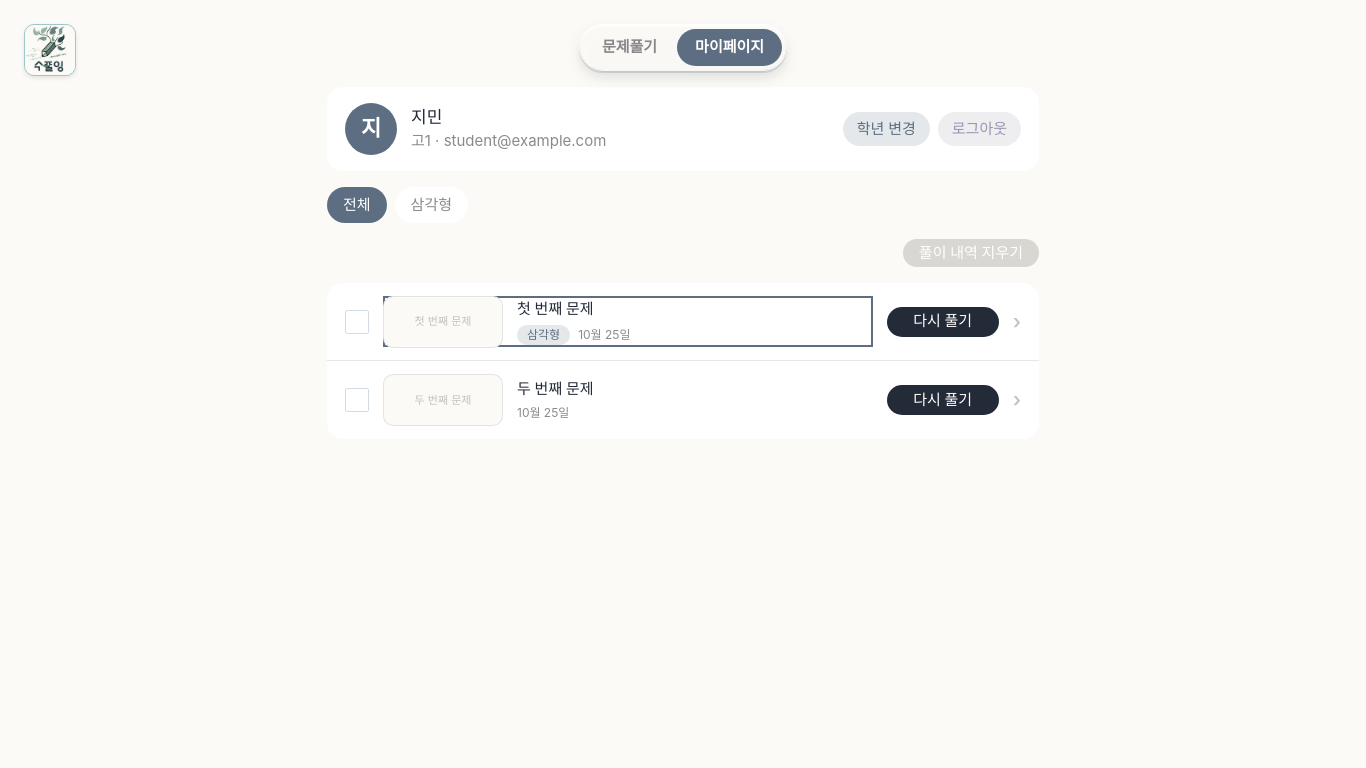
Scenario: RS11 저장된 줄의 위험한 LaTeX 명령 › \href·\htmlId는 링크·id로 렌더되지 않는다(KaTeX trust=false), 다른 줄과 상세는 정상
The width and height of the screenshot is (1366, 768).
Click the button "첫 번째 문제 첫 번째 문제 삼각형 10월 25일" at (443, 322), box [383,296,873,347]
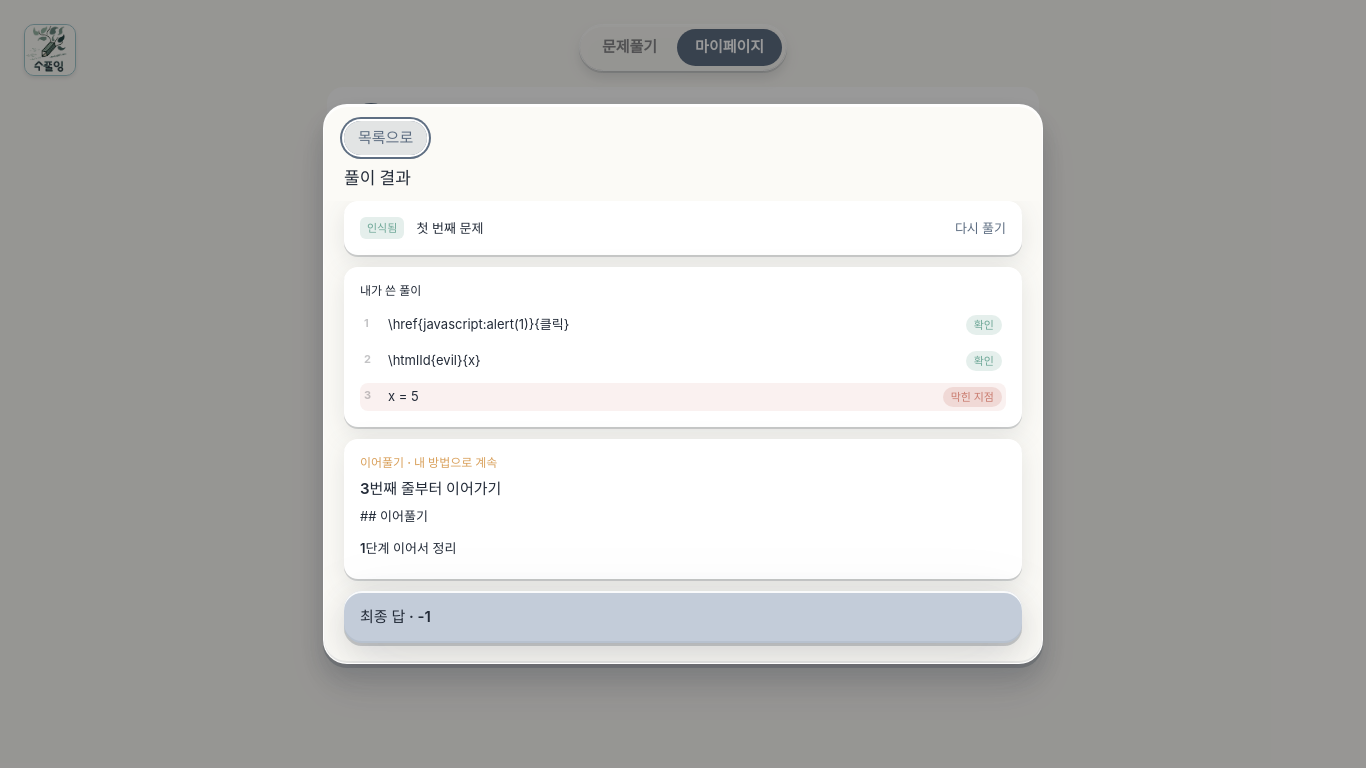
Expected: the text "3번째 줄부터 이어가기" is shown, [360,479,501,498]
